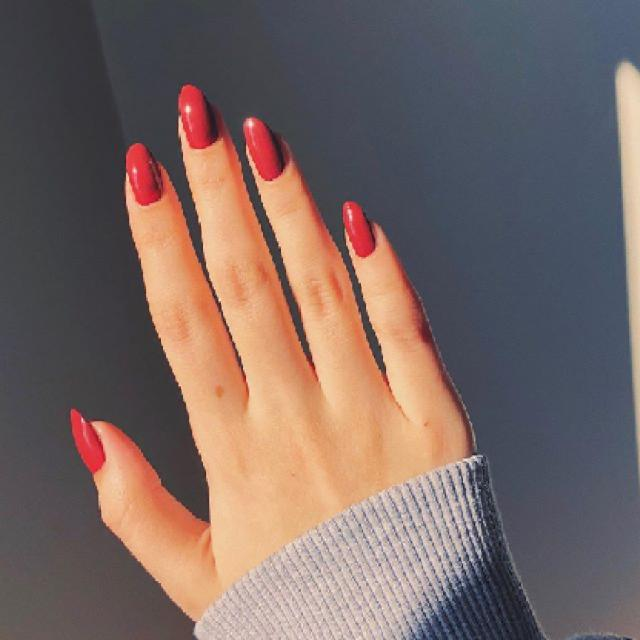Nail: (179, 85, 221, 149), (244, 118, 288, 179), (126, 144, 164, 206), (72, 410, 105, 472), (342, 201, 376, 257)
